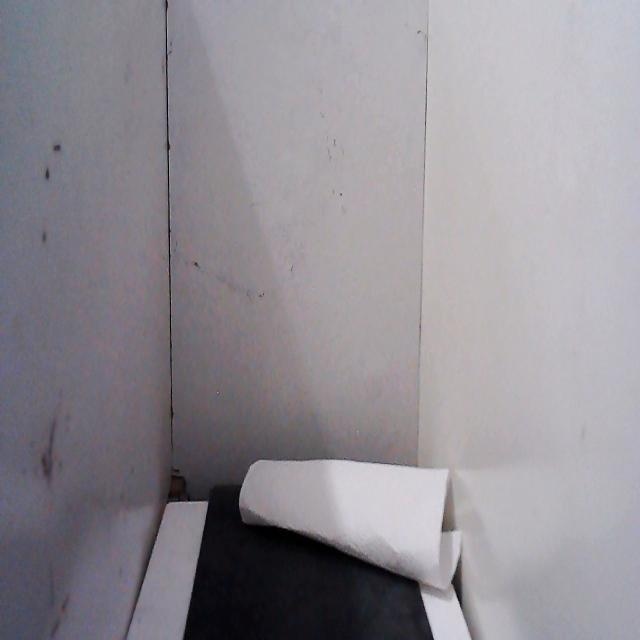papel: (234, 440, 465, 601)
